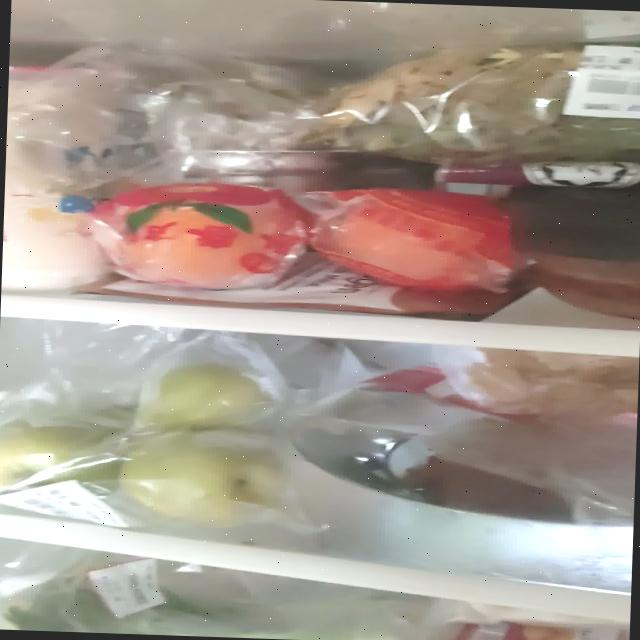apple: (0, 354, 293, 531)
orange: (83, 177, 533, 302)
